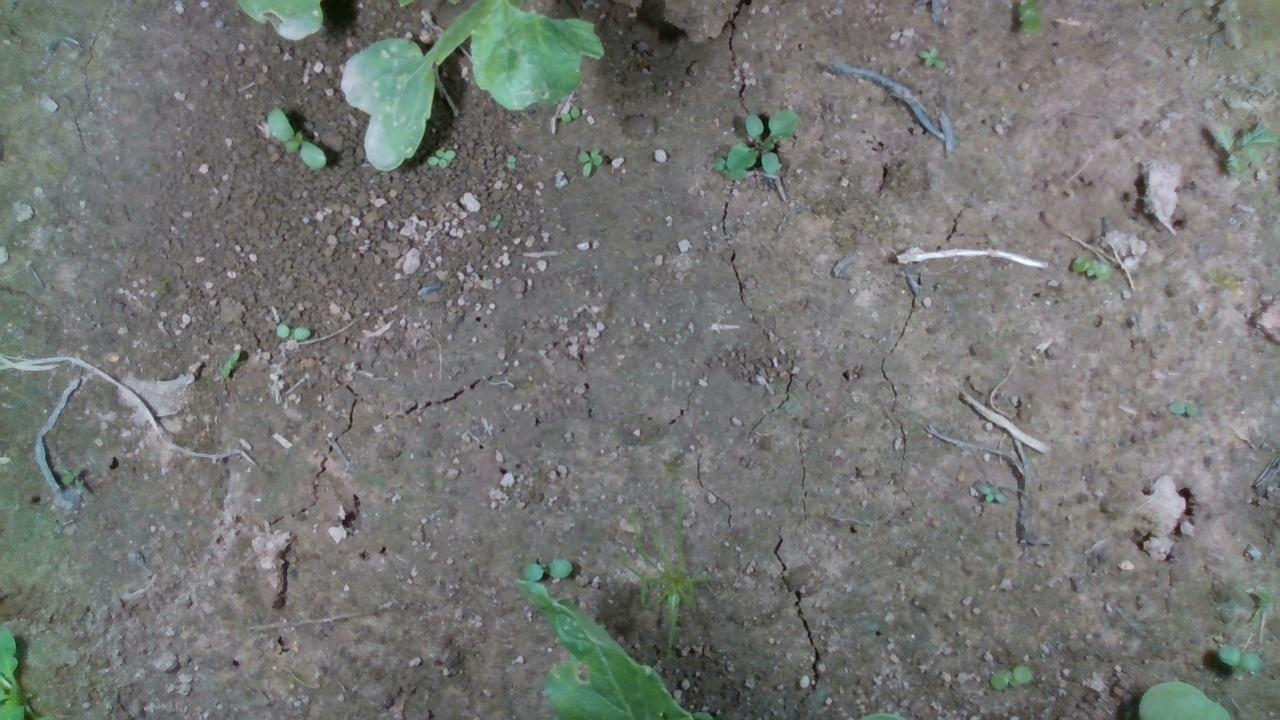weed: (265, 105, 326, 170), (1216, 644, 1263, 672), (520, 558, 572, 580), (1070, 254, 1113, 280), (988, 664, 1032, 689), (577, 147, 603, 177), (917, 45, 946, 71), (427, 145, 455, 168), (221, 346, 239, 378), (273, 323, 310, 338), (1166, 402, 1198, 416), (558, 105, 579, 121), (505, 152, 516, 169)
